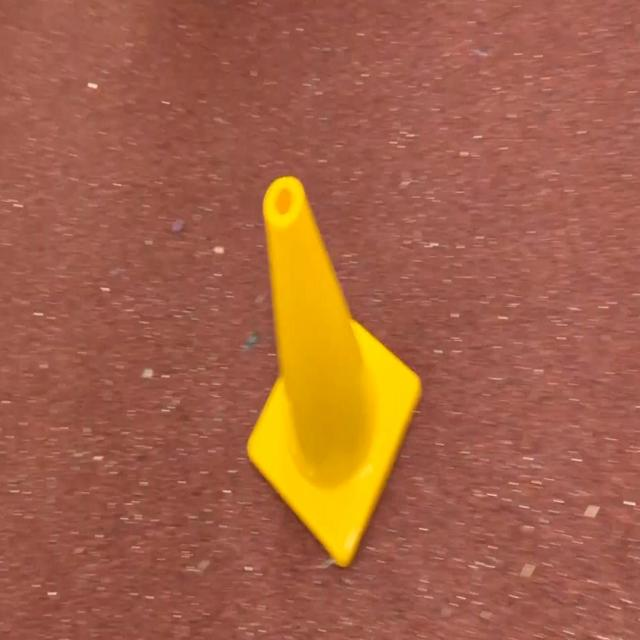frc_cone: (251, 174, 420, 569)
